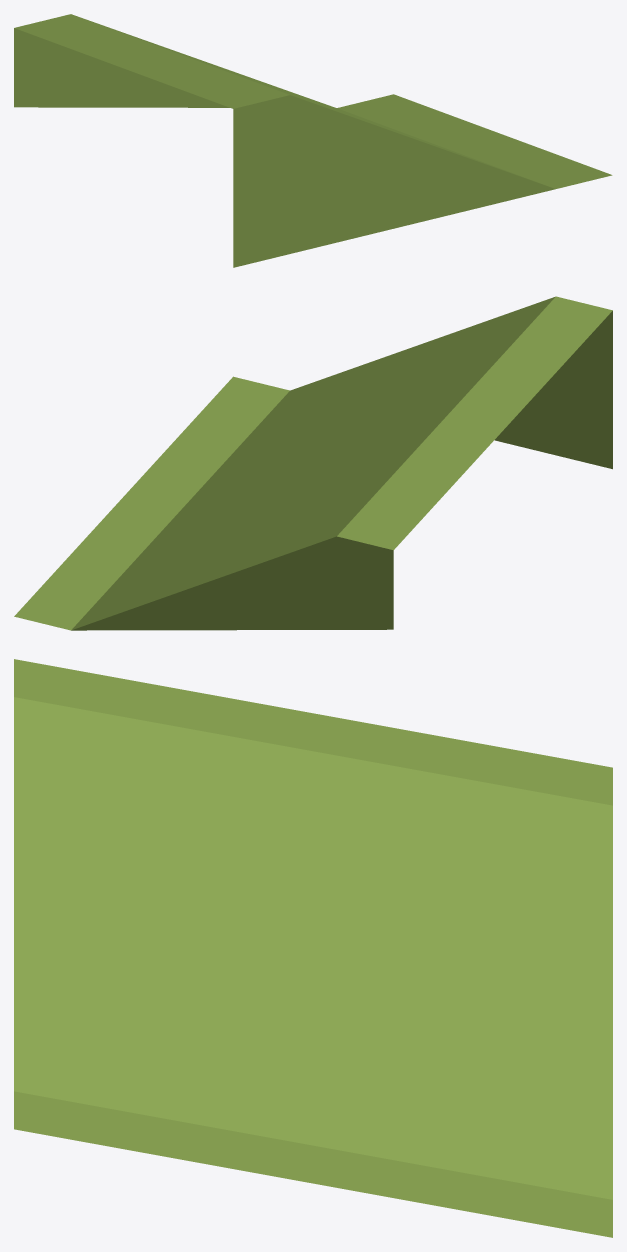
The model's file is grass-tile_05.fbx.
3 views of the same model, one above another, from view 1: azimuth 30°, elevation 25°; view 2: azimuth 150°, elevation 25°; view 3: azimuth 270°, elevation 25° (orthographic). The views are drawn at different scales.
Parts seen in each view (by area): view 1: grass_title_05; view 2: grass_title_05; view 3: grass_title_05.
Boxes of the visible parts, x1,y1,x2,y2 form: grass_title_05: (14, 14, 612, 267); grass_title_05: (14, 296, 612, 630); grass_title_05: (14, 659, 612, 1237).
Bounding box in the file's own units: 1000 × 600 × 1000.
